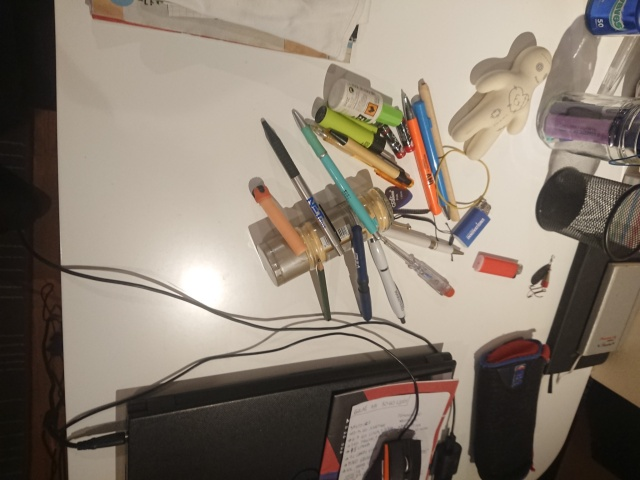Kotanyi Garlic Granules 70g: (253, 185, 397, 289)
